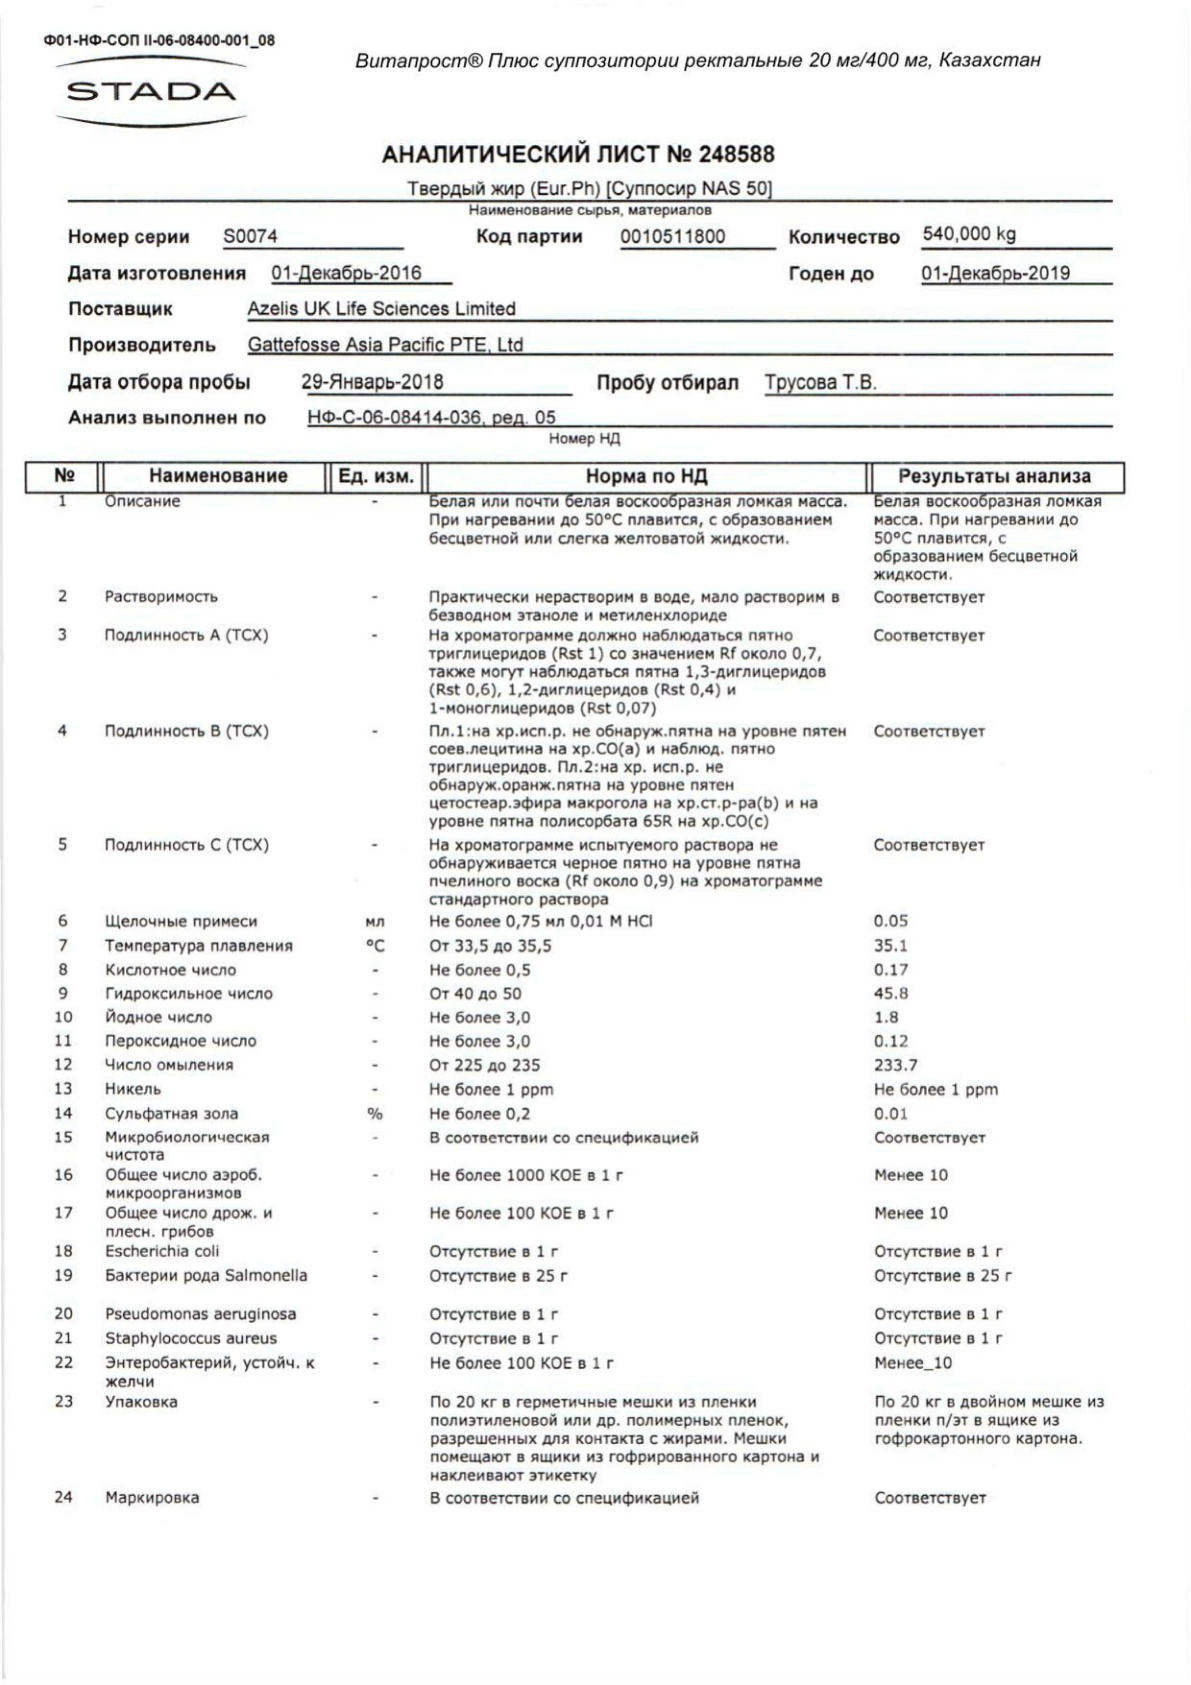partial_lined: (24, 460, 1127, 1508)
